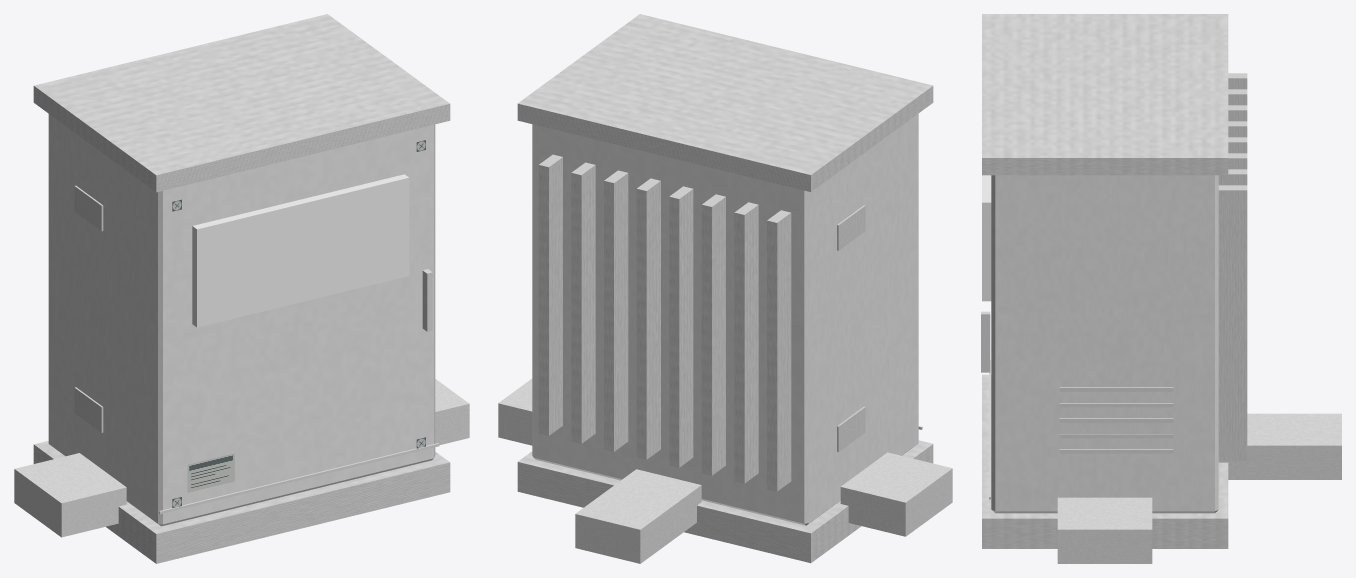
Rendered from solarmppt.obj.
3 renders of one model, left to right at view 1: azimuth 30°, elevation 25°; view 2: azimuth 150°, elevation 25°; view 3: azimuth 270°, elevation 25°, orthographic.
Parts seen in each view (by area): view 1: Case, Trim, Display, Solar, Output; view 2: Trim, Case, Return, Solar, Output; view 3: Case, Trim, Return, Output, Display.
Boxes of the visible parts, left/top/right/bottom form: Case: left=48, top=114, right=435, bottom=526; Trim: left=33, top=14, right=450, bottom=563; Display: left=192, top=174, right=409, bottom=327; Solar: left=14, top=453, right=126, bottom=537; Output: left=435, top=379, right=469, bottom=445; Trim: left=517, top=14, right=933, bottom=563; Case: left=532, top=113, right=918, bottom=525; Return: left=575, top=469, right=701, bottom=563; Solar: left=840, top=452, right=952, bottom=536; Output: left=498, top=378, right=532, bottom=445; Case: left=991, top=175, right=1218, bottom=513; Trim: left=981, top=14, right=1247, bottom=548; Return: left=1218, top=413, right=1341, bottom=479; Output: left=1057, top=497, right=1152, bottom=563; Display: left=982, top=175, right=991, bottom=301.
Size of the model in its own units: 1 by 0.91 by 0.762.
